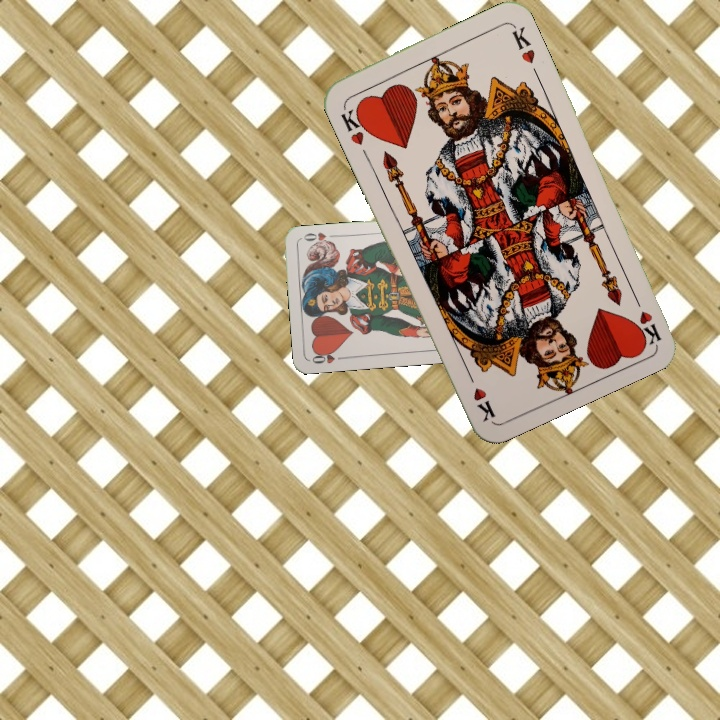HK: (628, 288, 664, 346), (336, 102, 373, 148)
HO: (308, 347, 348, 366)
